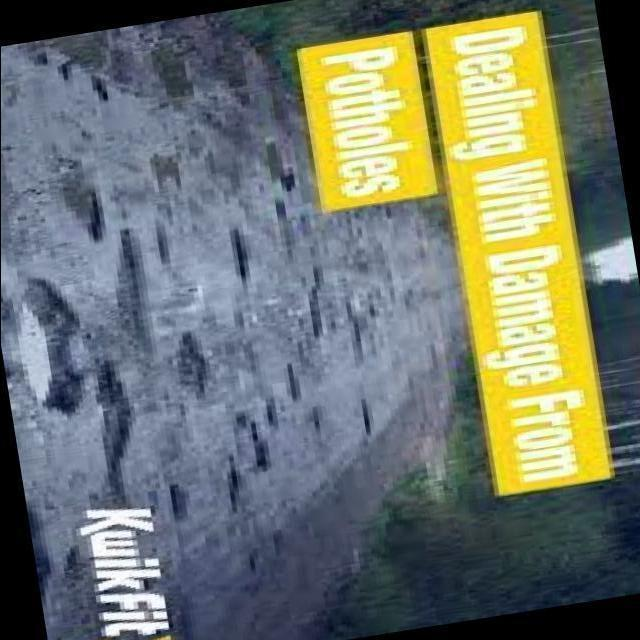pothole: (19, 279, 84, 414), (98, 360, 132, 503), (118, 229, 152, 353), (62, 161, 105, 241), (178, 331, 208, 398), (235, 411, 269, 468), (230, 229, 248, 288), (276, 200, 292, 261), (170, 484, 188, 520), (309, 288, 322, 337), (229, 455, 239, 512), (156, 224, 170, 264), (288, 364, 301, 401), (266, 398, 276, 426), (362, 399, 370, 434), (354, 321, 361, 353)
